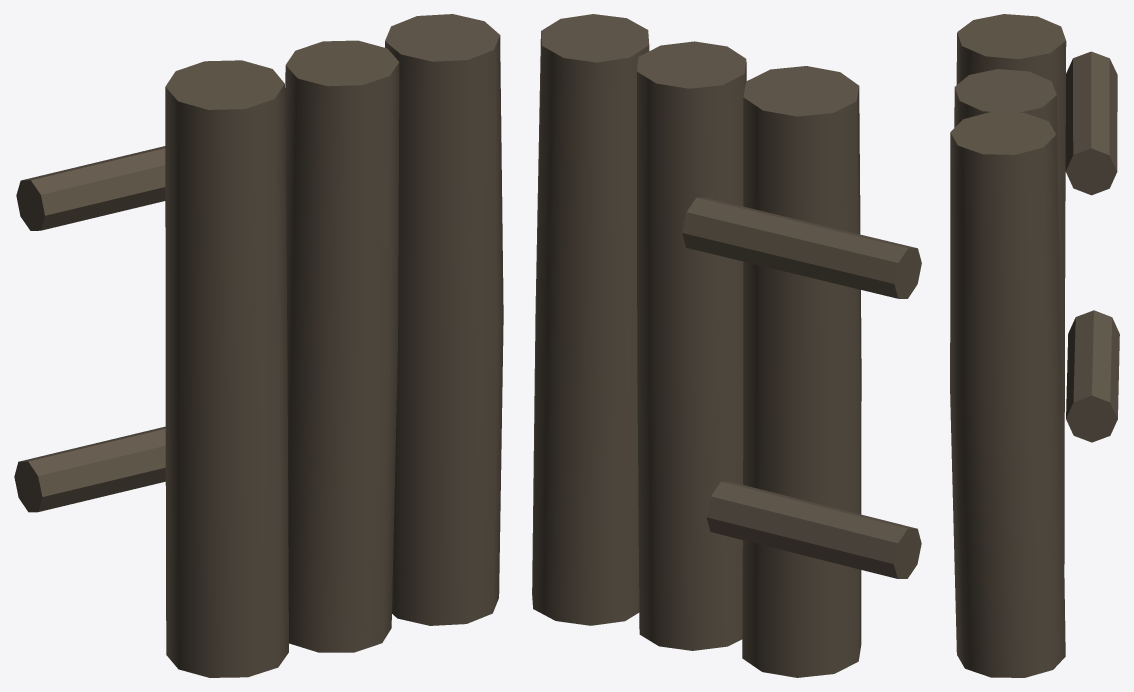
File: bruestung_holz_10_1m_kaputt.glb
3 views of the same model, side by side, from view 1: azimuth 30°, elevation 25°; view 2: azimuth 150°, elevation 25°; view 3: azimuth 270°, elevation 25° (orthographic). The views are drawn at different scales.
Visible parts, largest first — view 1: bruestung_holz_10_1m_kaputt; view 2: bruestung_holz_10_1m_kaputt; view 3: bruestung_holz_10_1m_kaputt.
Boxes of the visible parts, x1,y1,x2,y2 form: bruestung_holz_10_1m_kaputt: [14, 14, 503, 677]; bruestung_holz_10_1m_kaputt: [532, 14, 921, 677]; bruestung_holz_10_1m_kaputt: [950, 14, 1119, 677].
Size of the model in its own units: 0.7747 by 1.01 by 0.2964.
